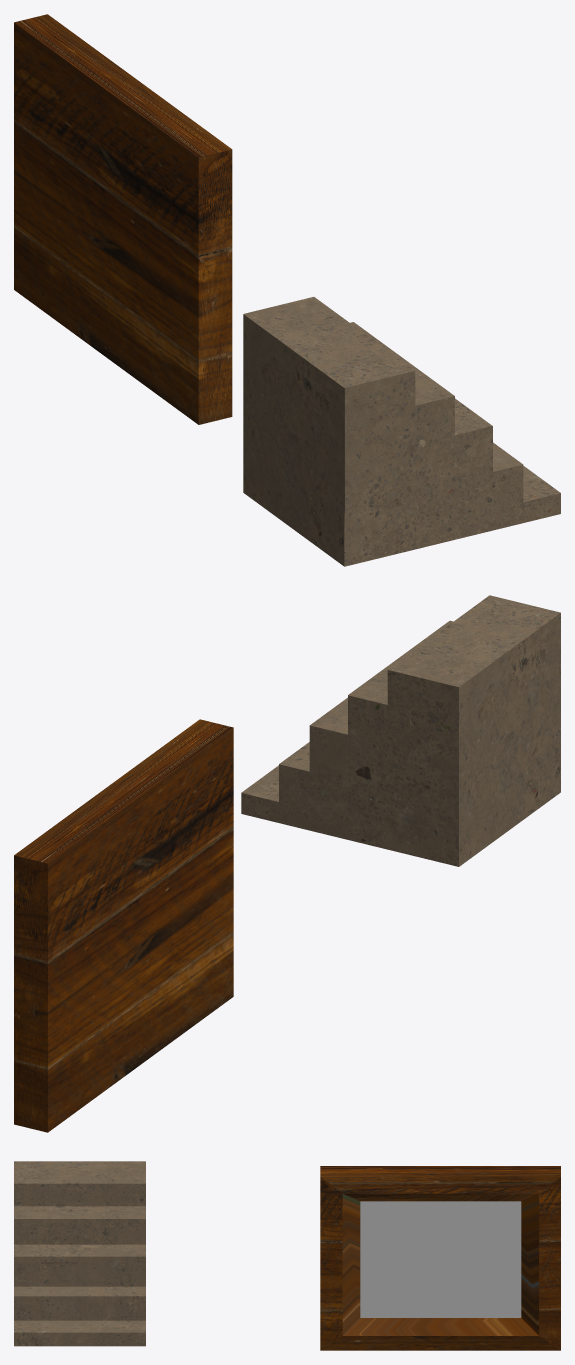
The model's file is stairs model fbx.fbx.
The picture shows the model from 3 angles, top to bottom: view 1: azimuth 30°, elevation 25°; view 2: azimuth 150°, elevation 25°; view 3: azimuth 270°, elevation 25°; orthographic projection. The views are drawn at different scales.
Parts seen in each view (by area): view 1: Cube, Cube.002; view 2: Cube, Cube.002; view 3: Cube, Cube.002, Plane.
Boxes of the visible parts, x1,y1,x2,y2 form: Cube: [14, 14, 232, 424]; Cube.002: [243, 297, 560, 566]; Cube: [14, 719, 233, 1132]; Cube.002: [241, 595, 560, 866]; Cube: [320, 1166, 560, 1350]; Cube.002: [14, 1161, 145, 1346]; Plane: [360, 1201, 521, 1317].
Bounding box in the file's own units: 471 × 556 × 1583.
